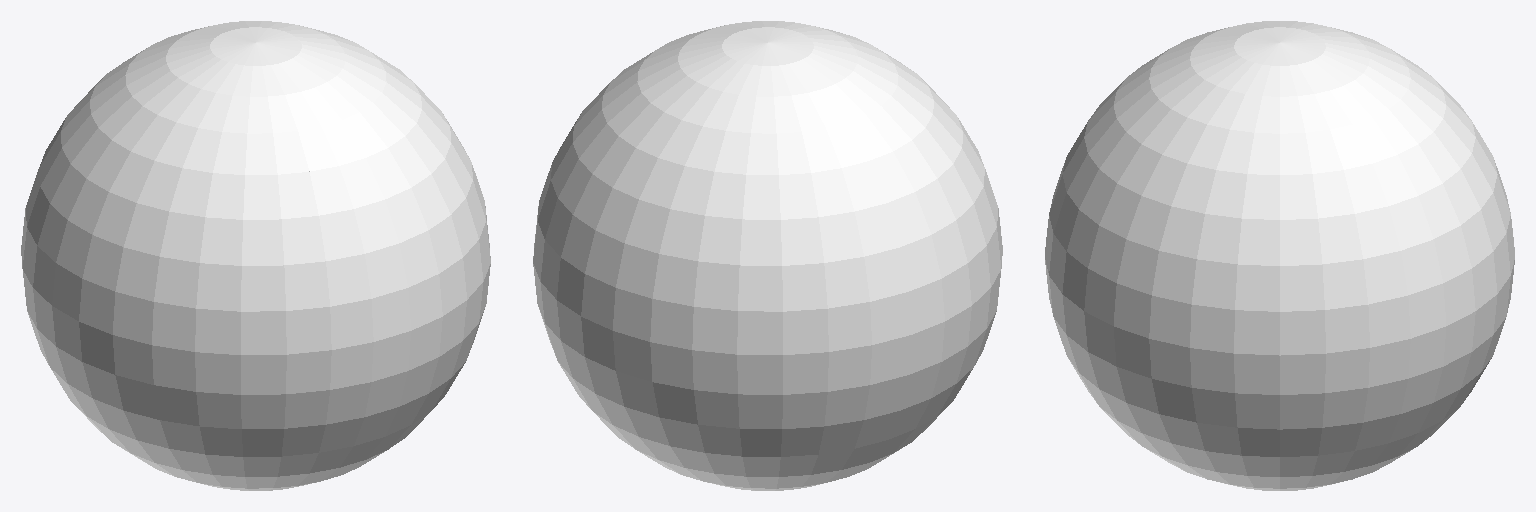
The picture shows the model from 3 angles: view 1: azimuth 30°, elevation 25°; view 2: azimuth 150°, elevation 25°; view 3: azimuth 270°, elevation 25°; orthographic projection.
Parts seen in each view (by area): view 1: 球; view 2: 球; view 3: 球.
Boxes of the visible parts, box(x1,y1,x2,y2) form: 球: box(21, 21, 490, 490); 球: box(533, 21, 1002, 490); 球: box(1045, 21, 1514, 490).
Size of the model in its own units: 2 by 2 by 2.
Materials: 1 (1 with a texture image).